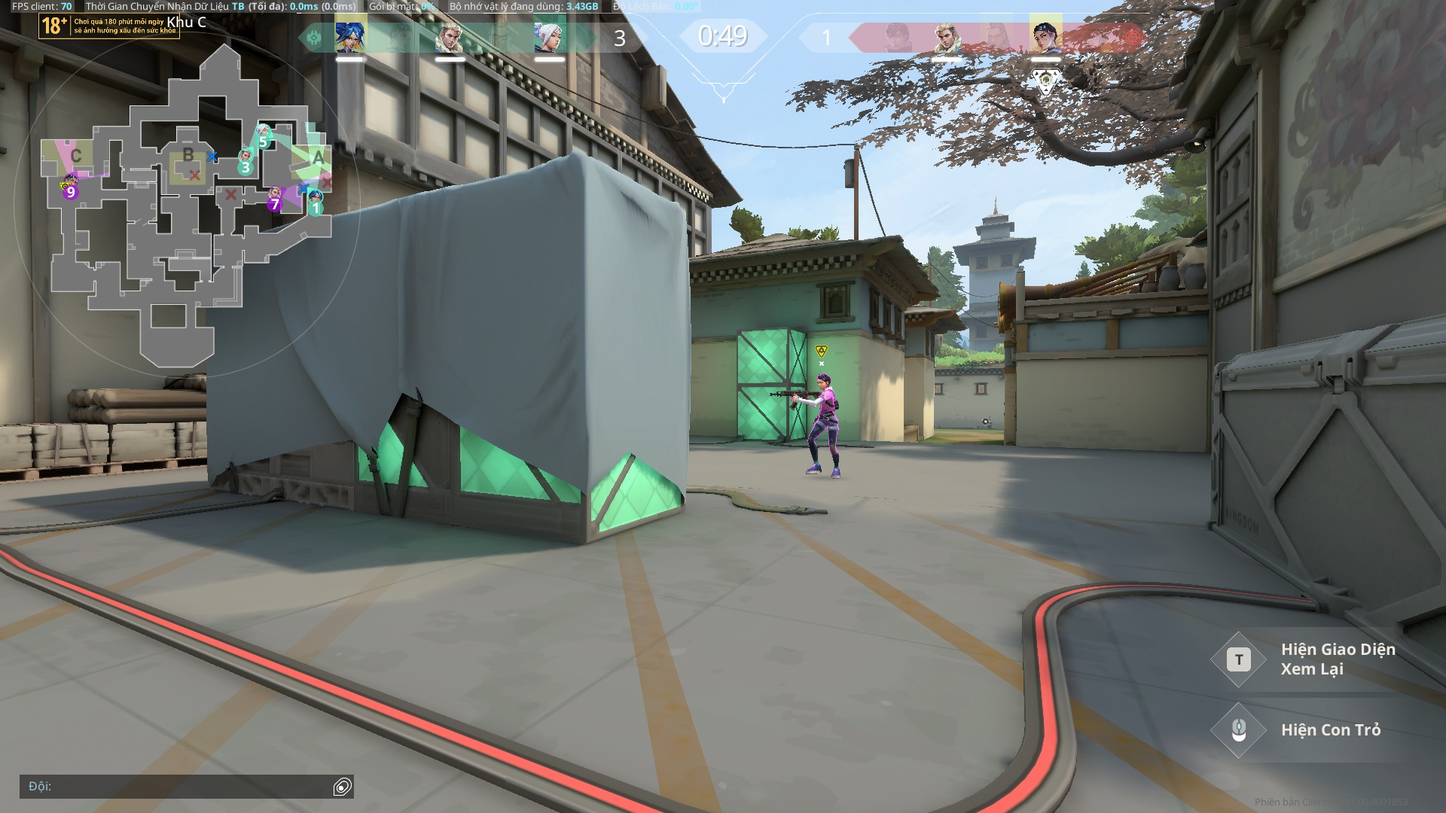body: (819, 388, 837, 416)
head: (816, 374, 832, 389)
